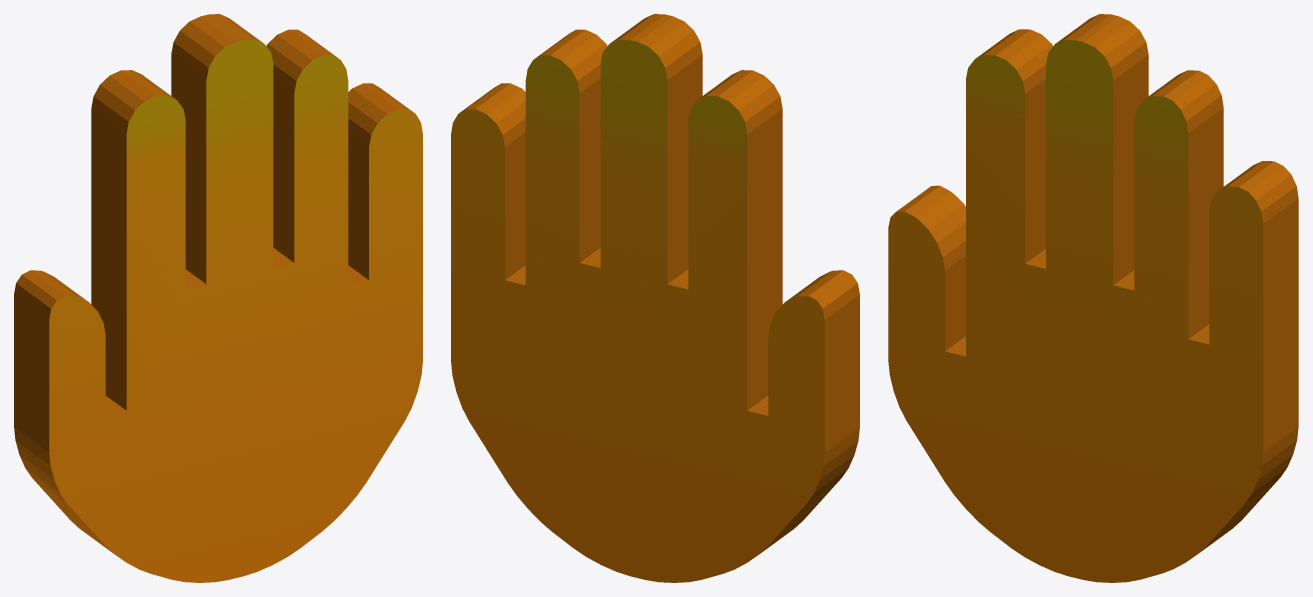
The model's file is hand-r-bevel.gltf.
The picture shows the model from 3 angles, left to right: view 1: azimuth 30°, elevation 25°; view 2: azimuth 150°, elevation 25°; view 3: azimuth 330°, elevation 25°; orthographic projection.
Parts seen in each view (by area): view 1: hand-r-bevel; view 2: hand-r-bevel; view 3: hand-r-bevel.
Boxes of the visible parts, left/top/right/bottom form: hand-r-bevel: left=14, top=14, right=422, bottom=582; hand-r-bevel: left=451, top=14, right=859, bottom=582; hand-r-bevel: left=888, top=14, right=1298, bottom=582.
Size of the model in its own units: 0.1523 by 0.2088 by 0.0249.
Materials: 1 (1 with a texture image).
